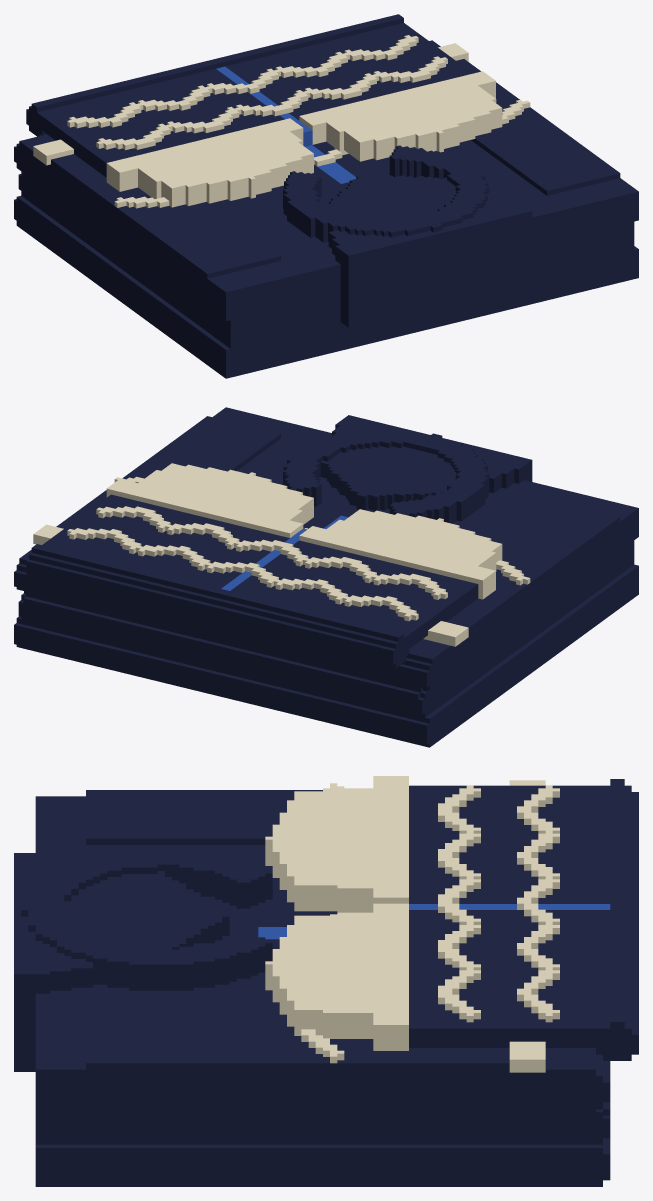
File: wool_suit.glb
3 renders of one model, top to bottom at view 1: azimuth 30°, elevation 25°; view 2: azimuth 150°, elevation 25°; view 3: azimuth 270°, elevation 25°, orthographic. The views are drawn at different scales.
Parts seen in each view (by area): view 1: wool_suit:compound; view 2: wool_suit:compound; view 3: wool_suit:compound.
Part boxes in pixels (x1,y1,x2,y2): wool_suit:compound: (14,14,638,378); wool_suit:compound: (14,407,638,747); wool_suit:compound: (14,776,638,1186).
Bounding box in the file's own units: 0.368 × 0.092 × 0.348.
